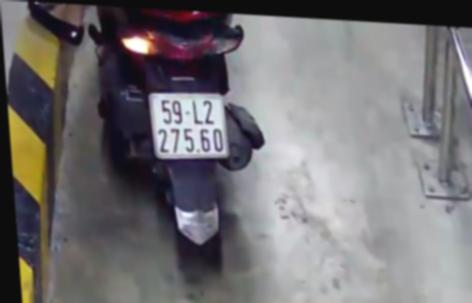License_Plate: (143, 87, 237, 168)
